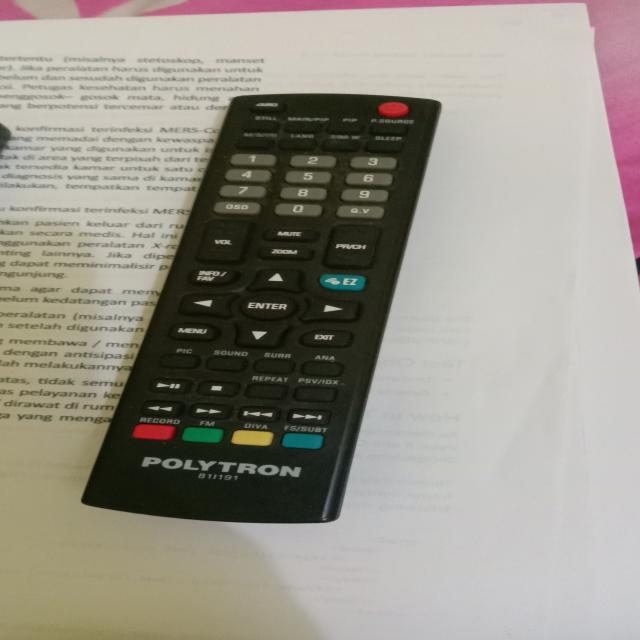remote: (62, 92, 452, 532)
